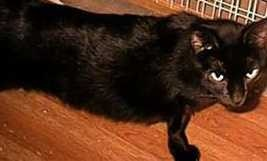Cat: (17, 0, 266, 160)
